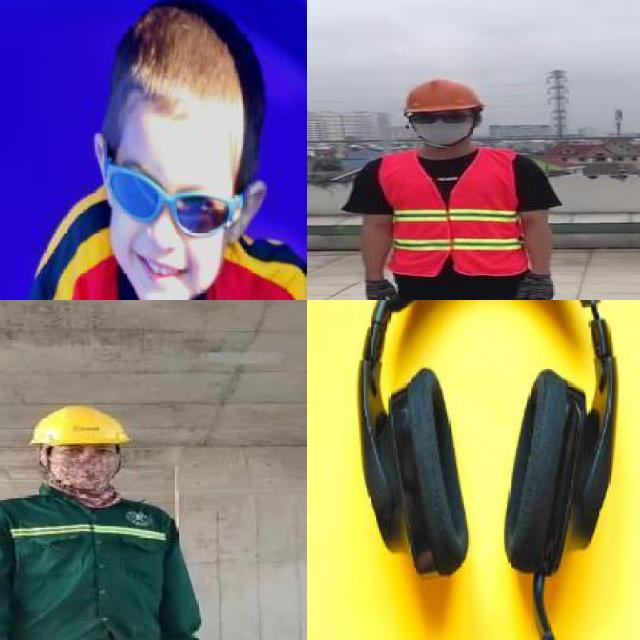Ear-protection: (368, 300, 632, 602)
face_mask: (44, 446, 120, 490), (405, 110, 473, 146)
face_nomask: (107, 150, 225, 292)
glasses: (104, 142, 242, 236), (404, 110, 476, 127)
hand_glove: (361, 277, 407, 300), (515, 275, 554, 300)
head_helmet: (22, 402, 140, 452), (398, 78, 487, 114)
head_nohelmet: (116, 11, 259, 119)
person: (8, 15, 307, 300), (0, 395, 217, 640), (345, 76, 564, 300)
vest: (377, 151, 526, 275)
